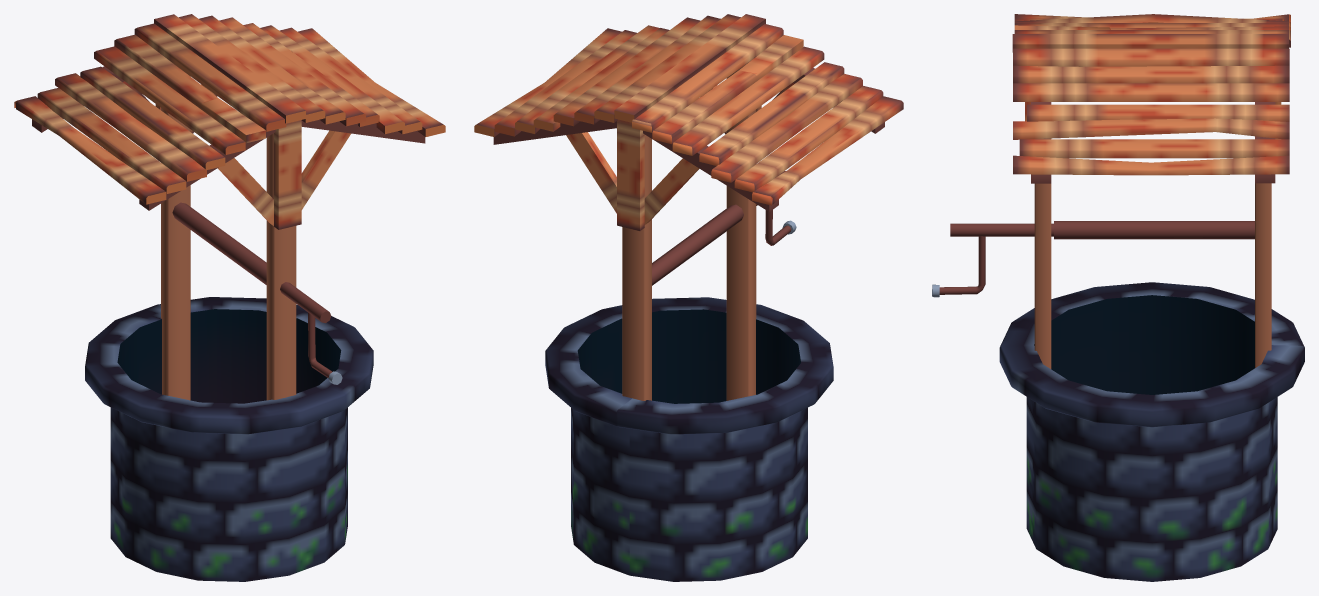
File: Poço.fbx
3 renders of one model, left to right at view 1: azimuth 30°, elevation 25°; view 2: azimuth 150°, elevation 25°; view 3: azimuth 270°, elevation 25°, orthographic. The views are drawn at different scales.
Parts seen in each view (by area): view 1: Poço; view 2: Poço; view 3: Poço.
Part boxes in pixels (bbox=[...]): Poço: bbox=[14, 14, 445, 581]; Poço: bbox=[474, 14, 903, 581]; Poço: bbox=[932, 14, 1304, 581].
Bounding box in the file's own units: 135 × 139 × 202.
